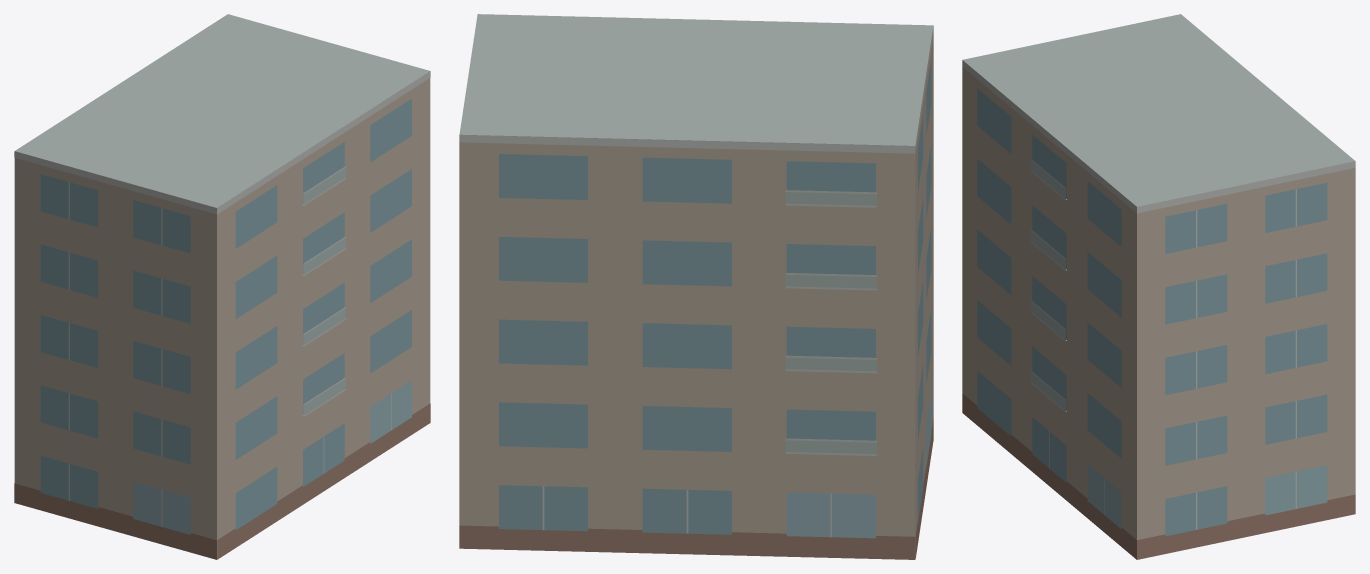
The model's file is survey-upis-32947048.glb.
3 renders of one model, left to right at view 1: azimuth 30°, elevation 25°; view 2: azimuth 150°, elevation 25°; view 3: azimuth 270°, elevation 25°, orthographic. The views are drawn at different scales.
Visible parts, largest first — view 1: survey-upis-32947048.tmp; view 2: survey-upis-32947048.tmp; view 3: survey-upis-32947048.tmp.
Part boxes in pixels (box(x1,y1,x2,y2)): survey-upis-32947048.tmp: box(14, 14, 430, 559); survey-upis-32947048.tmp: box(459, 14, 933, 559); survey-upis-32947048.tmp: box(962, 14, 1355, 559).
Bounding box in the file's own units: 15.36 × 13.1 × 13.24.
